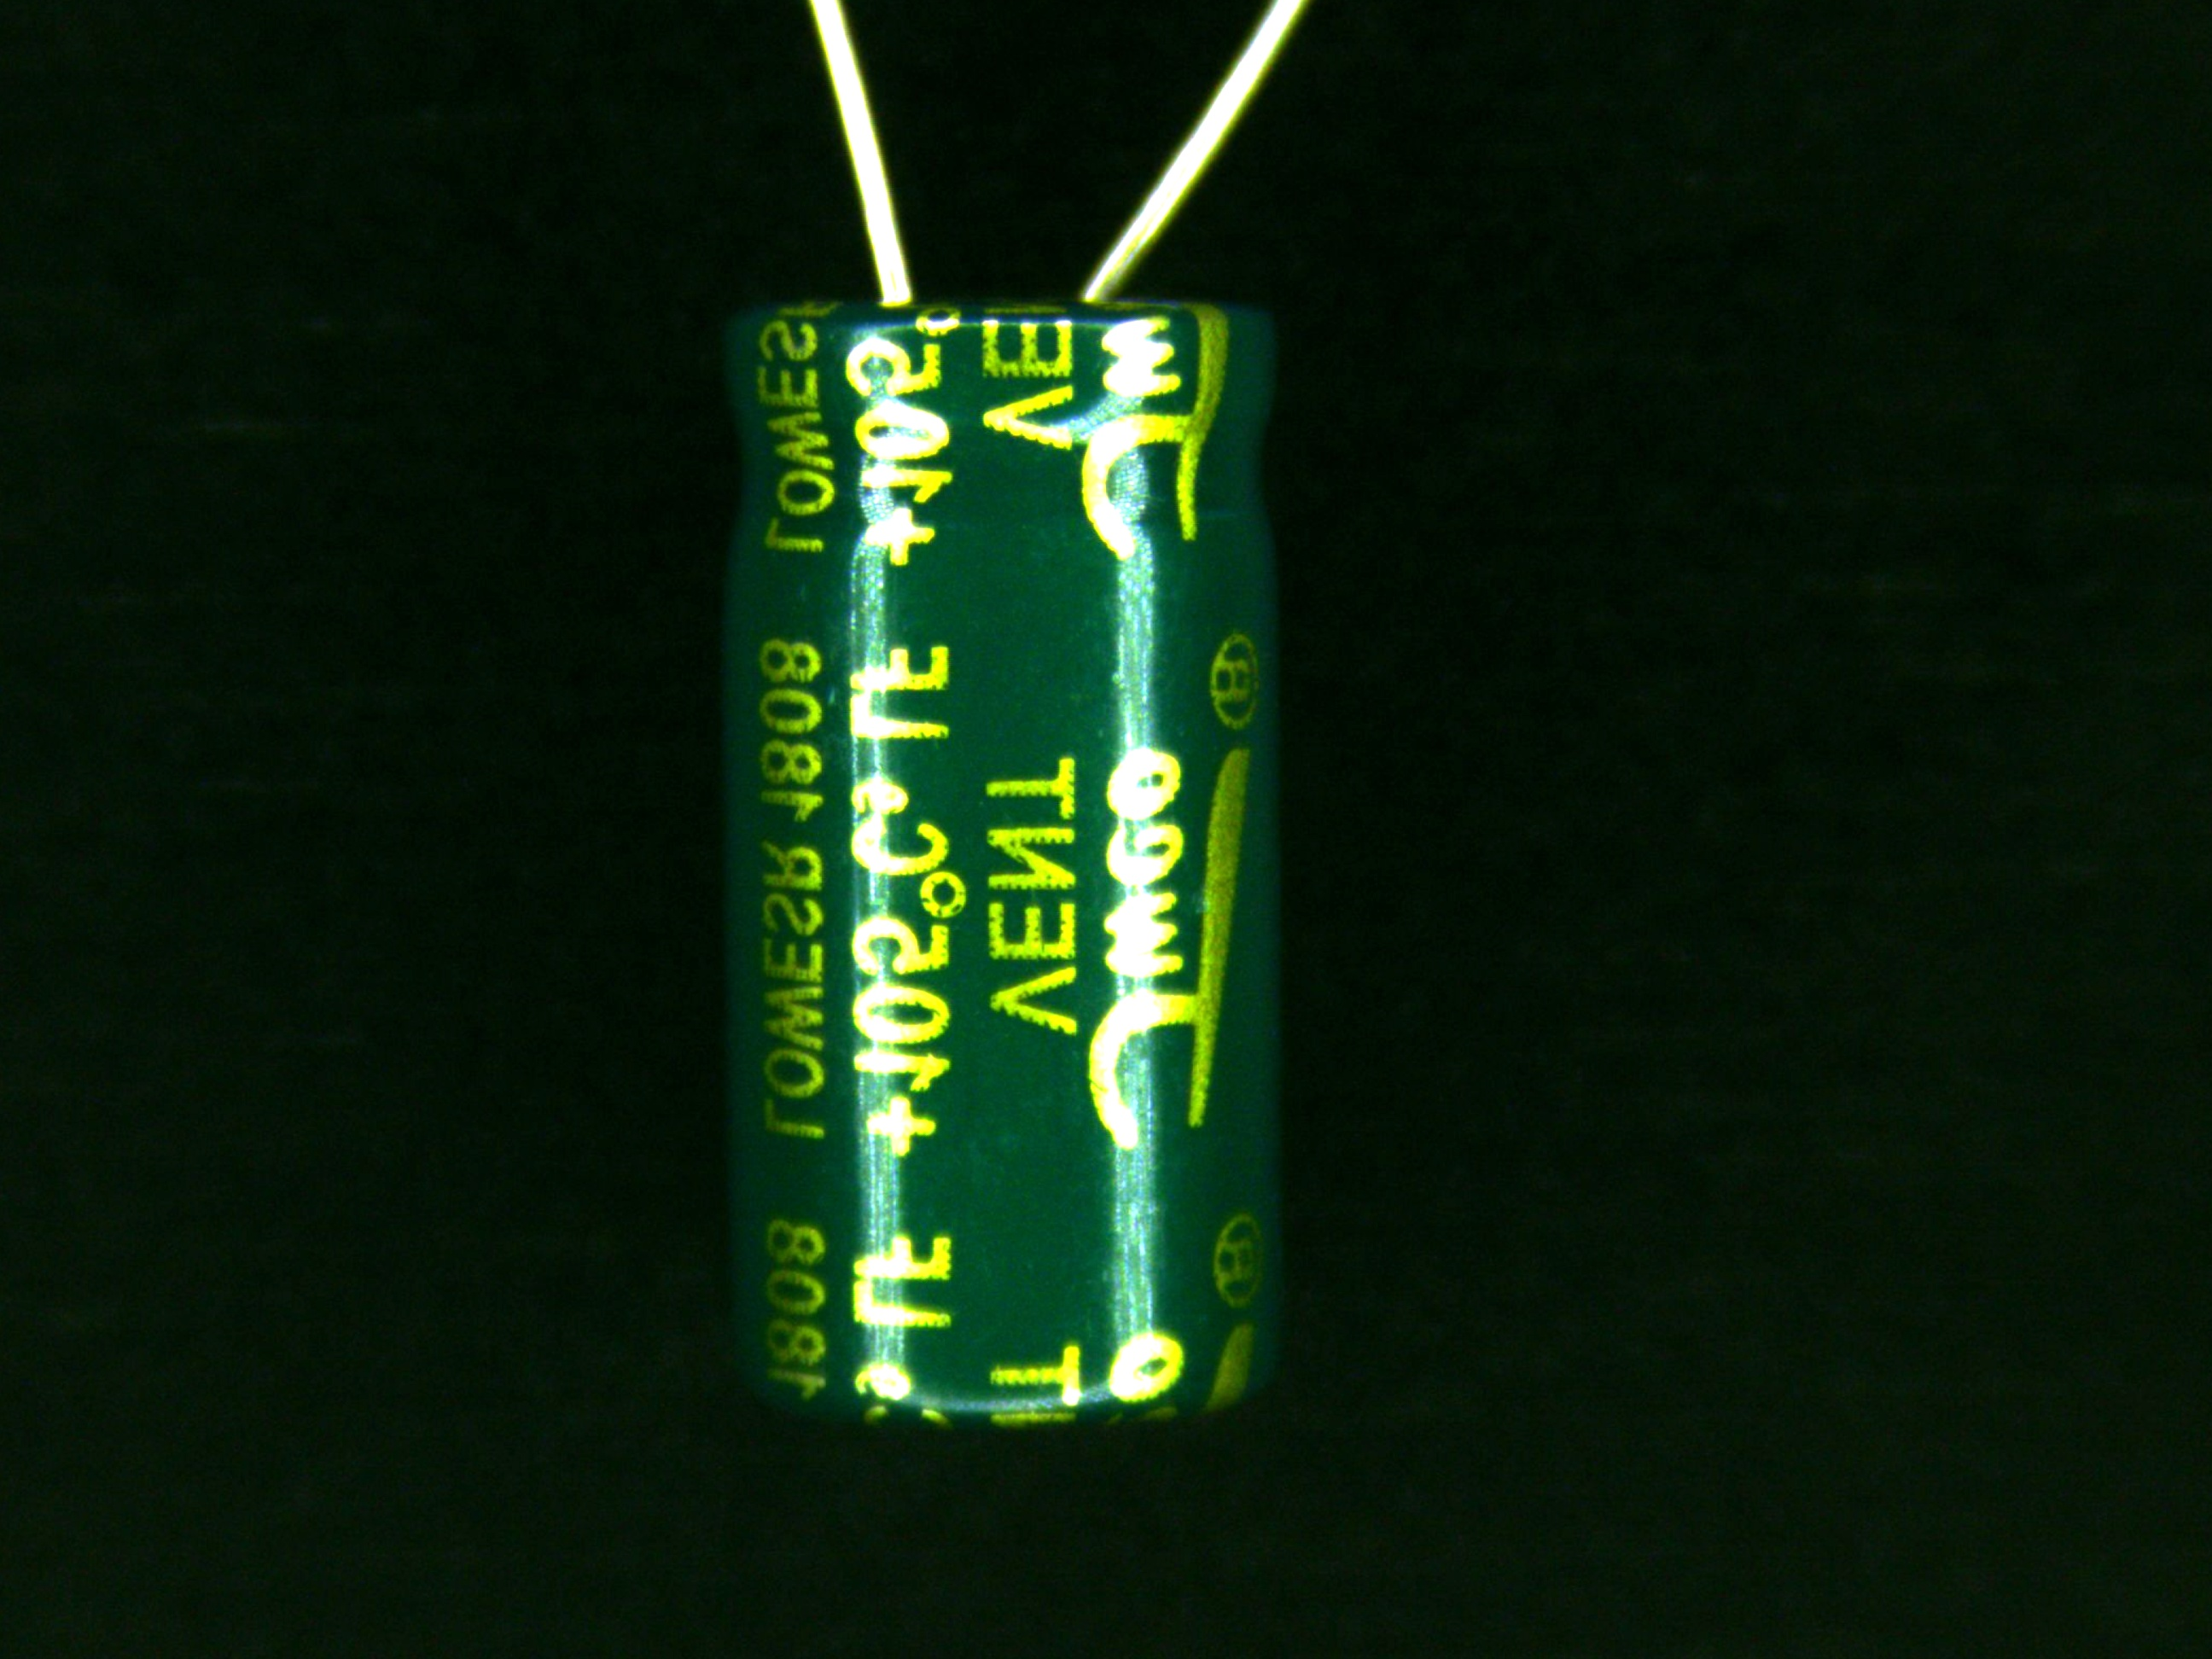c1: (719, 40, 1291, 1432)
